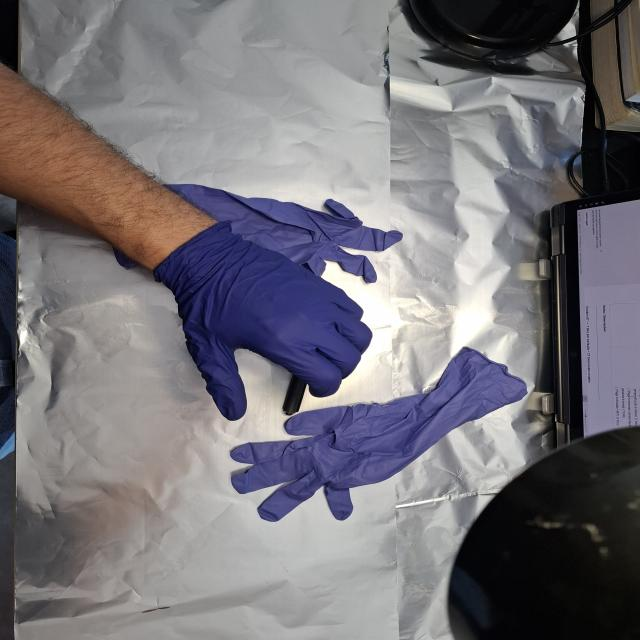glove_on: (149, 220, 374, 423)
